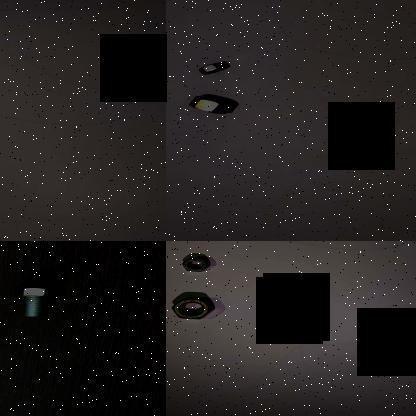Bolts: (13, 278, 62, 322)
NUTS: (171, 92, 251, 118), (166, 292, 224, 324), (191, 46, 227, 79), (174, 254, 223, 276)
